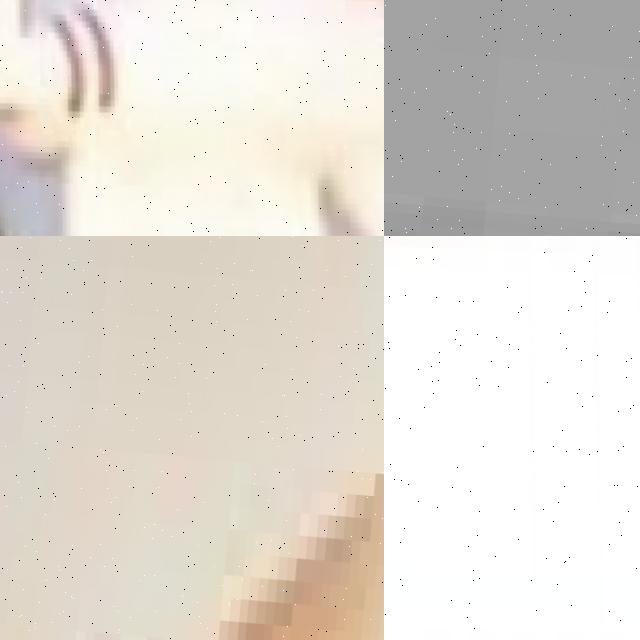drone: (384, 236, 640, 640), (0, 0, 384, 236)
